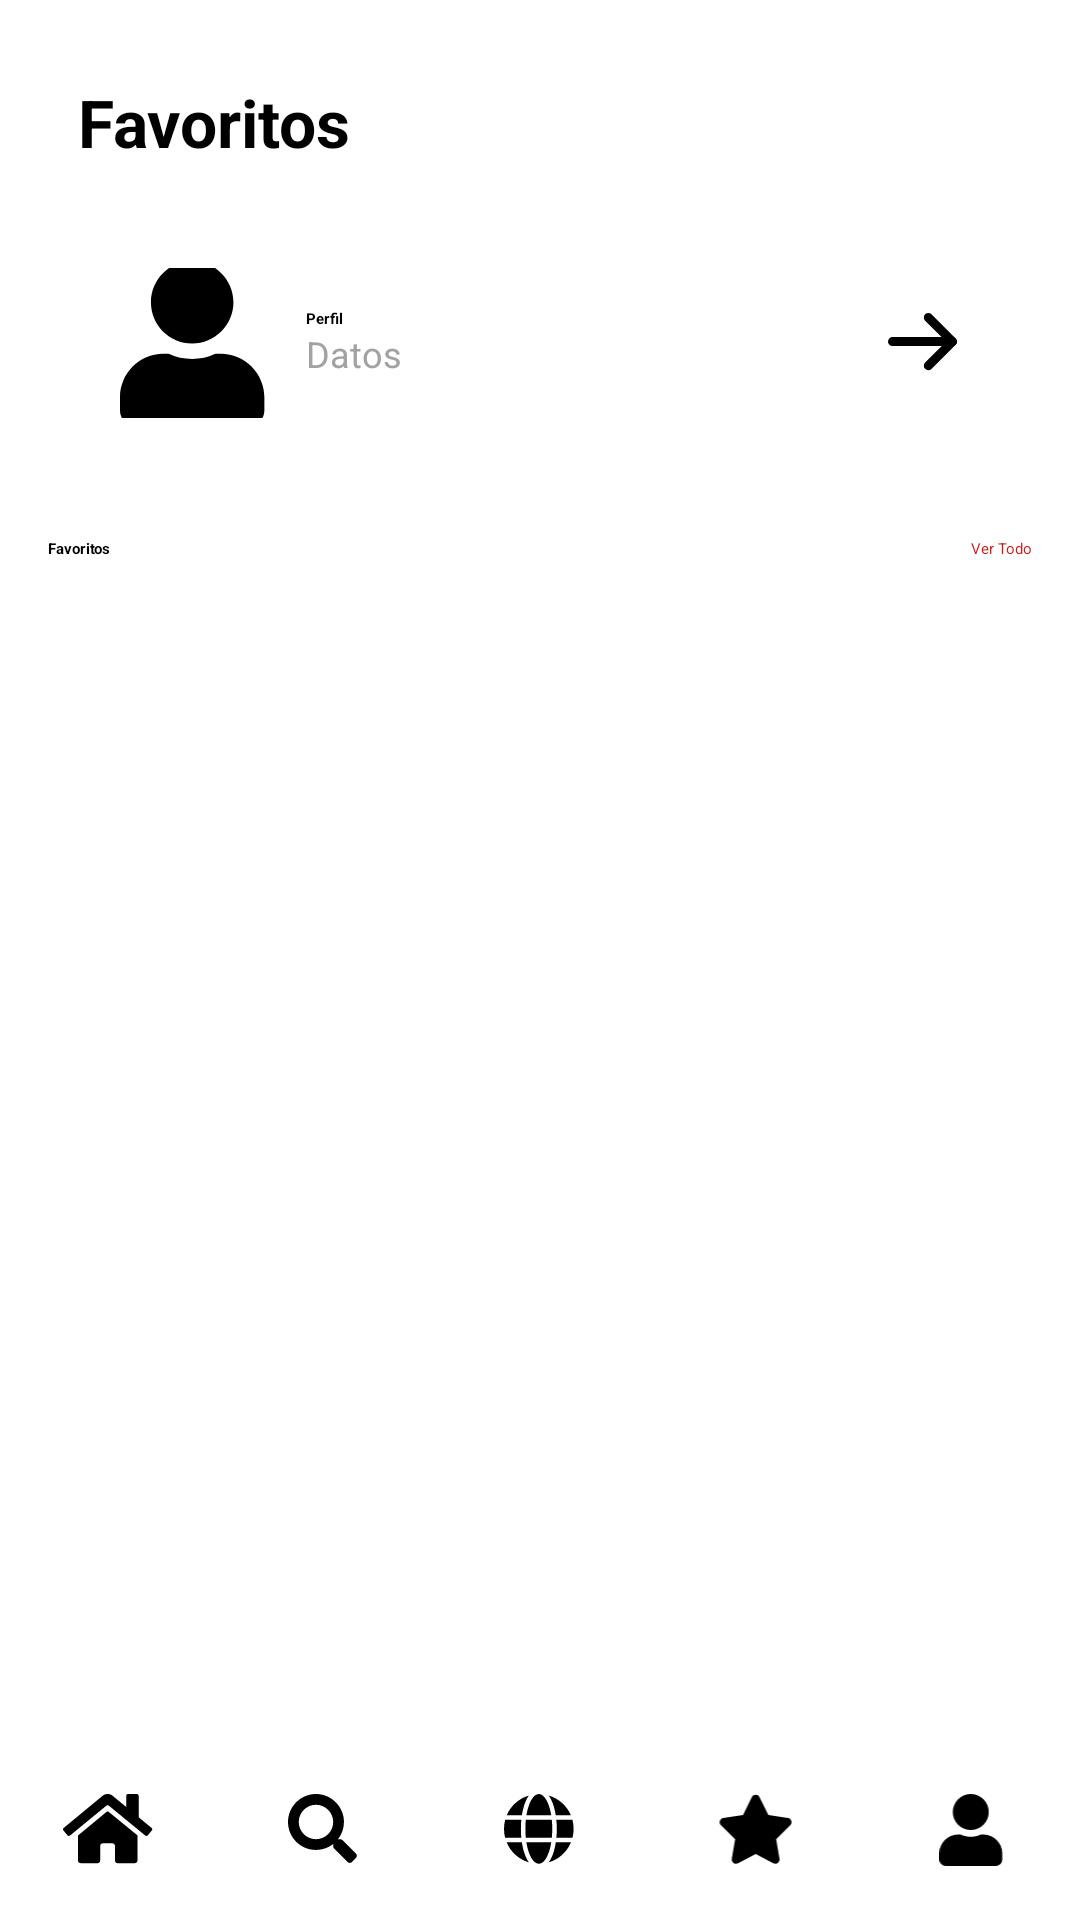

Locate icon controls on the screen. Image size 1080px x 1920px, boxes as (x1=x1, y1=y1, x2=x2, y2=y2).
arrow right: (x1=888, y1=313, x2=957, y2=371)
globe: (x1=504, y1=1794, x2=574, y2=1864)
home: (x1=63, y1=1794, x2=153, y2=1864)
search: (x1=288, y1=1794, x2=357, y2=1863)
star: (x1=719, y1=1794, x2=792, y2=1864)
user: (x1=120, y1=268, x2=265, y2=418), (x1=939, y1=1794, x2=1003, y2=1866)
